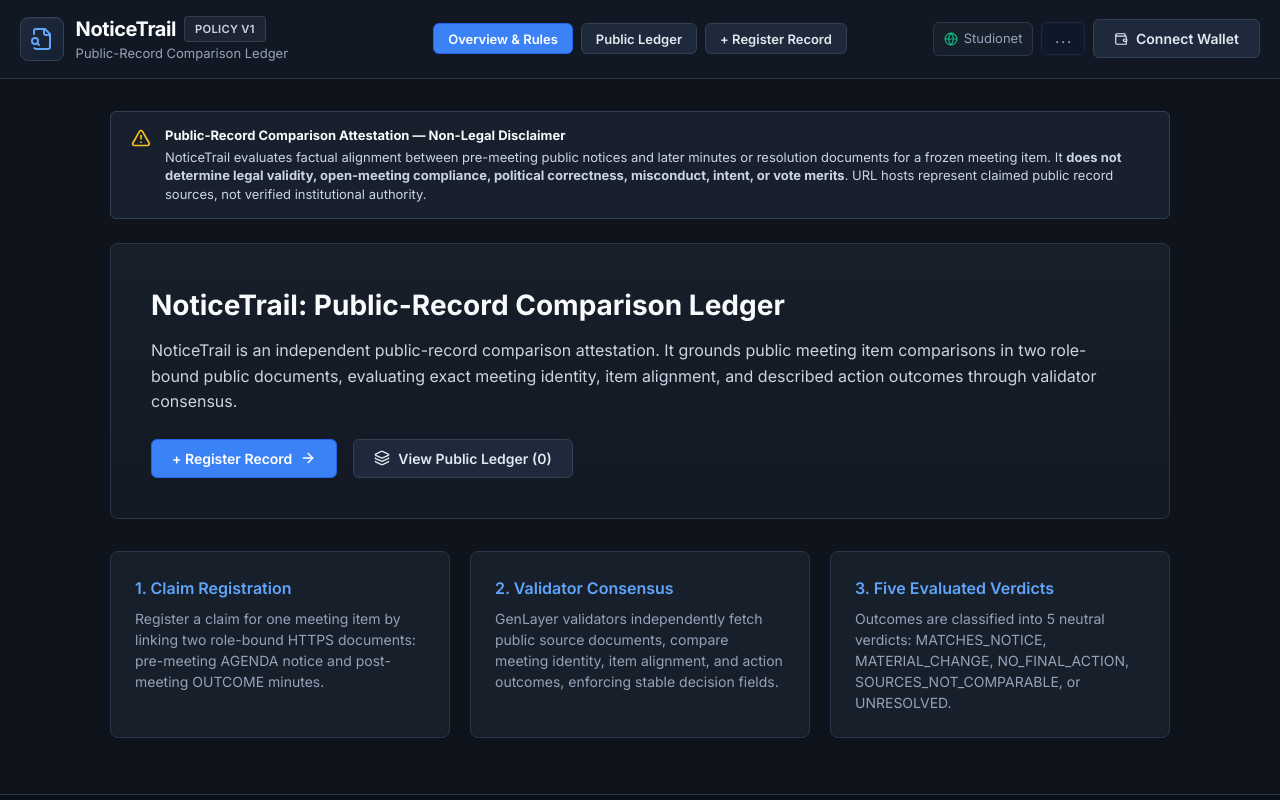
Test case: NoticeTrail Frontend Component & Accessibility Suite › renders App shell without trust/verified badges and navigates tabs without act warnings
The width and height of the screenshot is (1280, 800).
Expected: the heading "NoticeTrail" is shown, [76, 14, 176, 44]
Expected: the text "Public-Record Comparison Ledger" is shown, [76, 44, 288, 64]
Click the 1st button "+ Register Record" at (776, 39), box [705, 23, 847, 54]
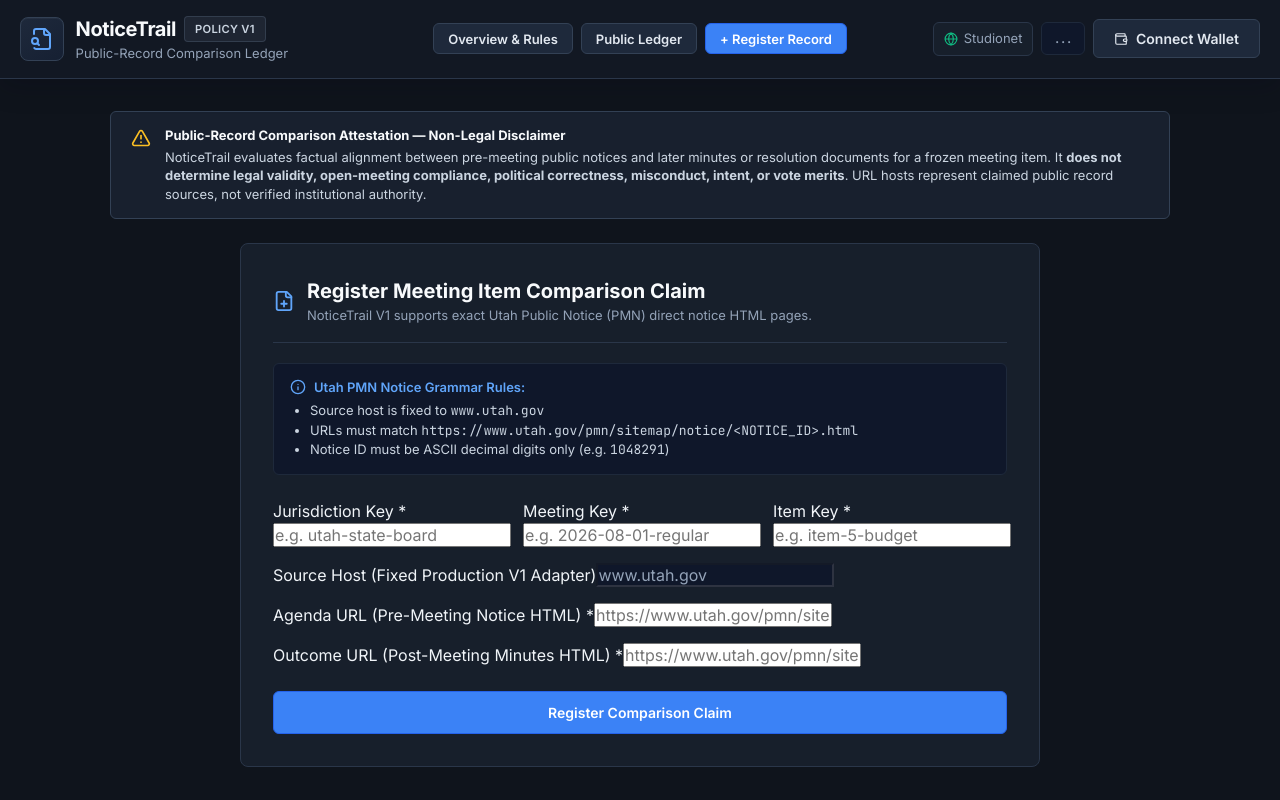
Now the heading "Register Meeting Item Comparison Claim" is shown, box [307, 279, 706, 303]
